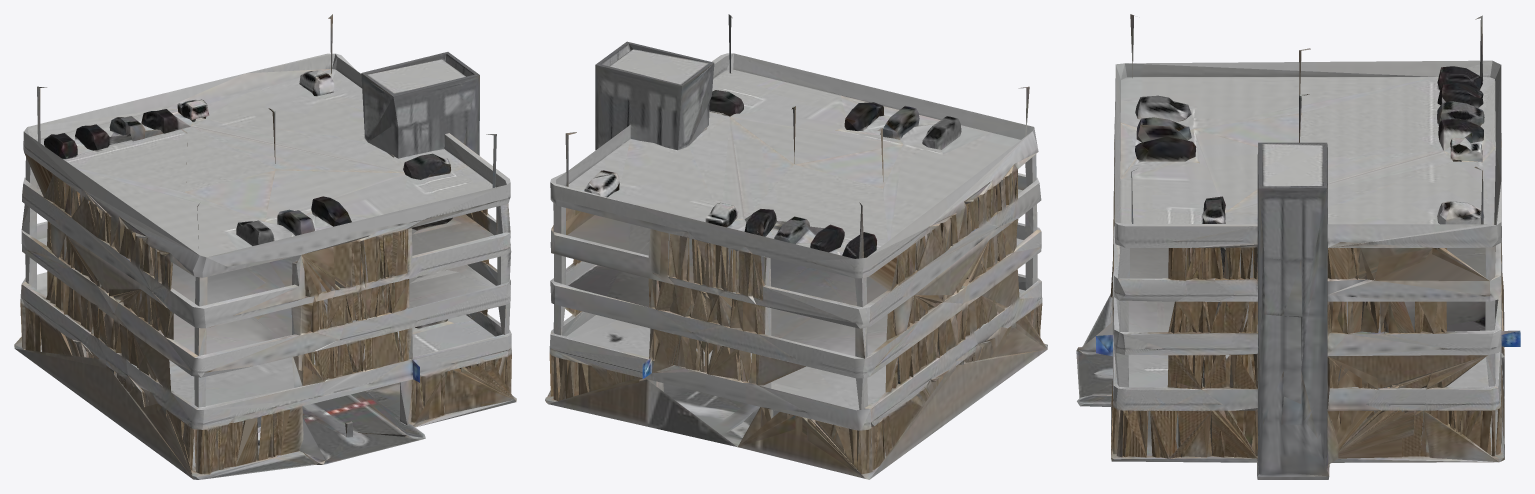
The model's file is parkhaus.glb.
3 renders of one model, left to right at view 1: azimuth 30°, elevation 25°; view 2: azimuth 150°, elevation 25°; view 3: azimuth 270°, elevation 25°, orthographic. The views are drawn at different scales.
Bounding box in the file's own units: 1.88 × 1.37 × 1.89.
1 material, 1 textured.
